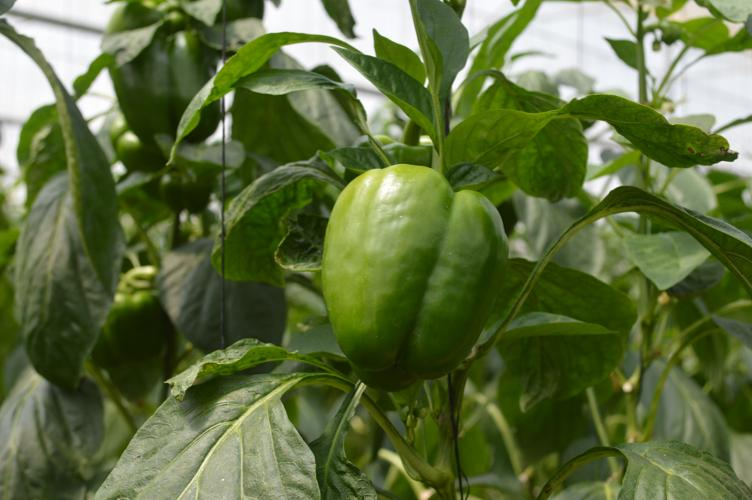BellPepper: (320, 163, 508, 389), (109, 31, 225, 141), (86, 290, 163, 391)
